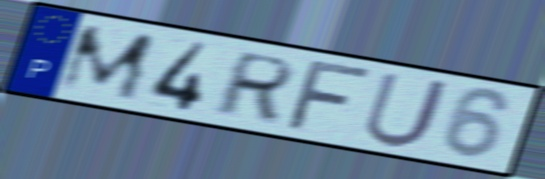4: (145, 38, 210, 114)
6: (438, 86, 517, 164)
F: (281, 59, 379, 134)
M: (54, 23, 160, 104)
R: (209, 49, 301, 124)
U: (360, 69, 455, 150)
